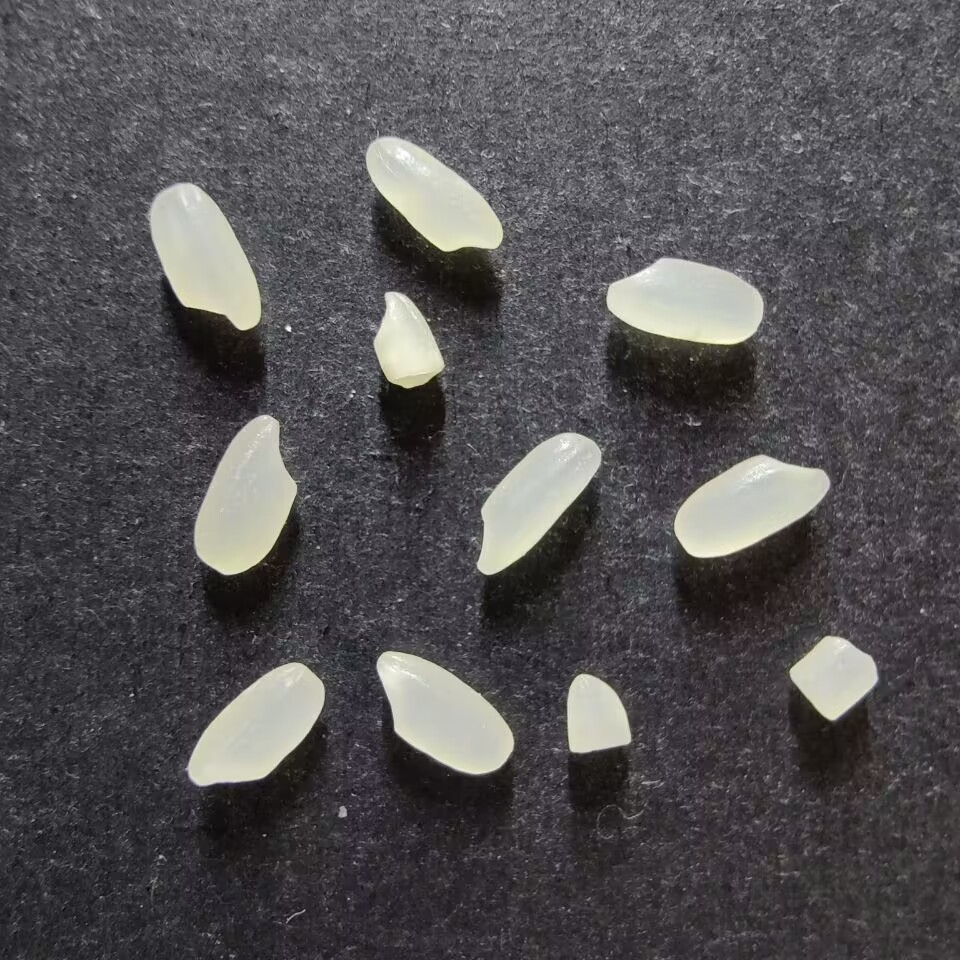broken: (788, 635, 878, 722), (373, 291, 444, 389), (566, 673, 631, 754)
rice: (475, 431, 601, 575), (376, 650, 514, 775), (186, 661, 325, 785), (192, 415, 297, 575), (148, 183, 261, 331), (672, 454, 830, 558), (365, 136, 503, 252), (606, 257, 763, 345)
